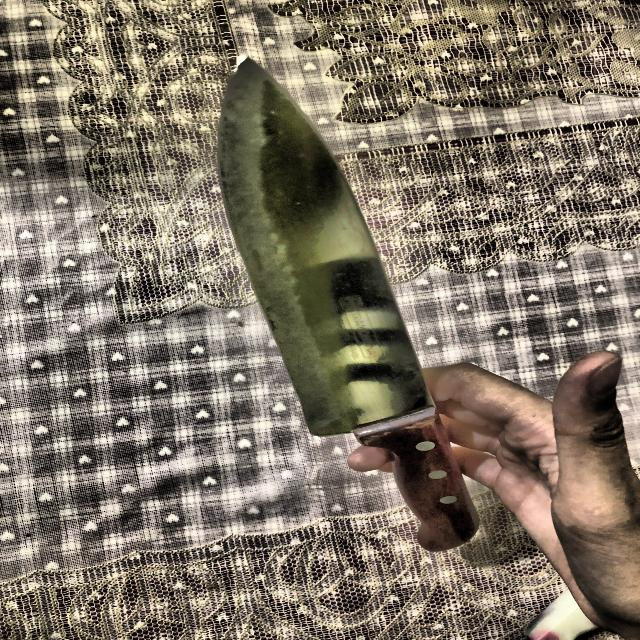knife: (213, 58, 479, 552)
